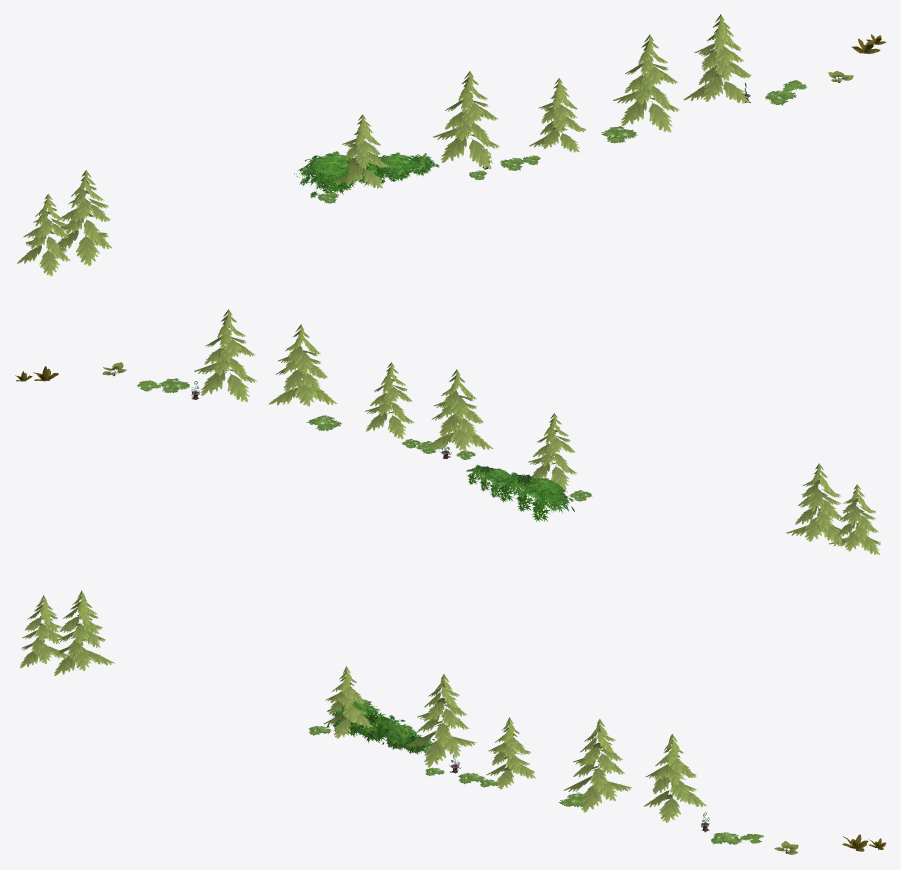
Rendered from zhibei5_1.fbx.
3 renders of one model, top to bottom at view 1: azimuth 30°, elevation 25°; view 2: azimuth 150°, elevation 25°; view 3: azimuth 330°, elevation 25°, orthographic. The views are drawn at different scales.
Parts seen in each view (by area): view 1: zhibei5_1; view 2: zhibei5_1; view 3: zhibei5_1.
Boxes of the visible parts, left/top/right/bottom form: zhibei5_1: left=17, top=14, right=885, bottom=276; zhibei5_1: left=15, top=309, right=880, bottom=554; zhibei5_1: left=20, top=590, right=886, bottom=854.
Size of the model in its own units: 6332 by 730 by 820.
